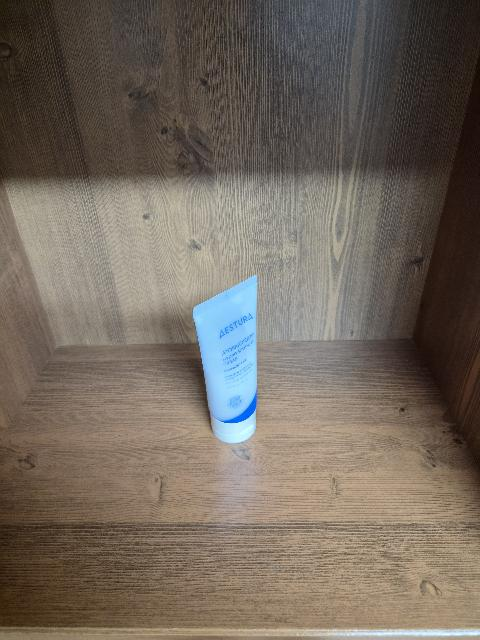handcream: (193, 275, 258, 444)
